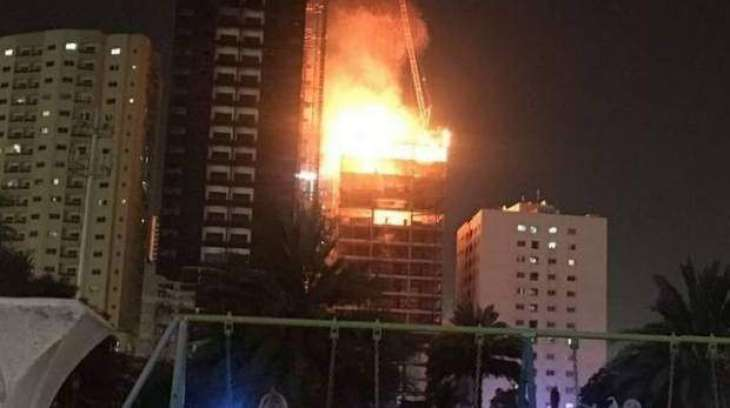Fire: (325, 10, 450, 173)
